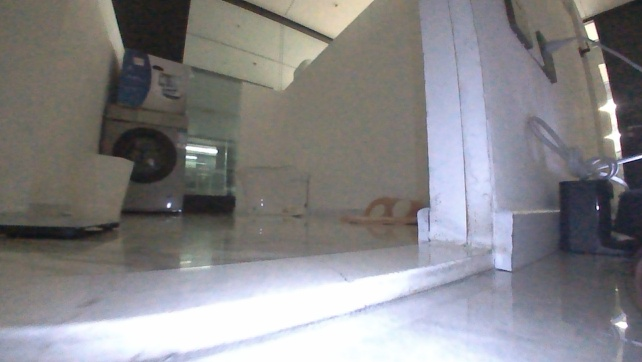blanket: (331, 178, 435, 239)
toilet: (236, 162, 321, 214)
trash_can: (554, 178, 641, 258)
washing_machine: (104, 110, 187, 213)
wire: (523, 30, 641, 201)
